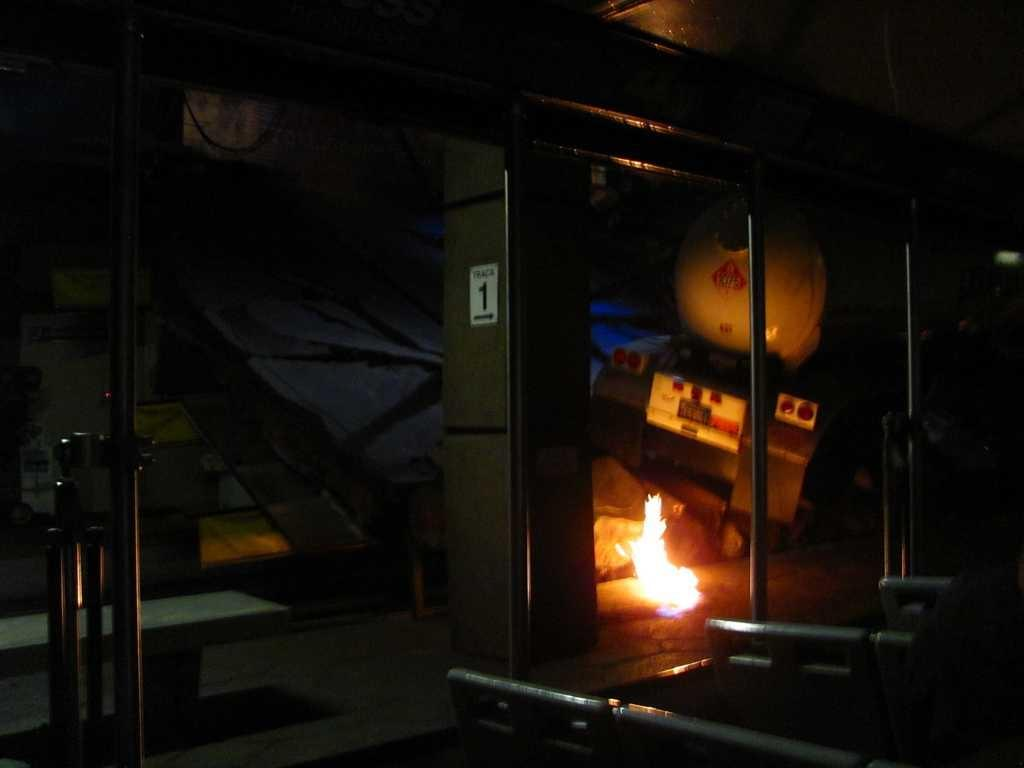fire: (642, 526, 684, 608)
